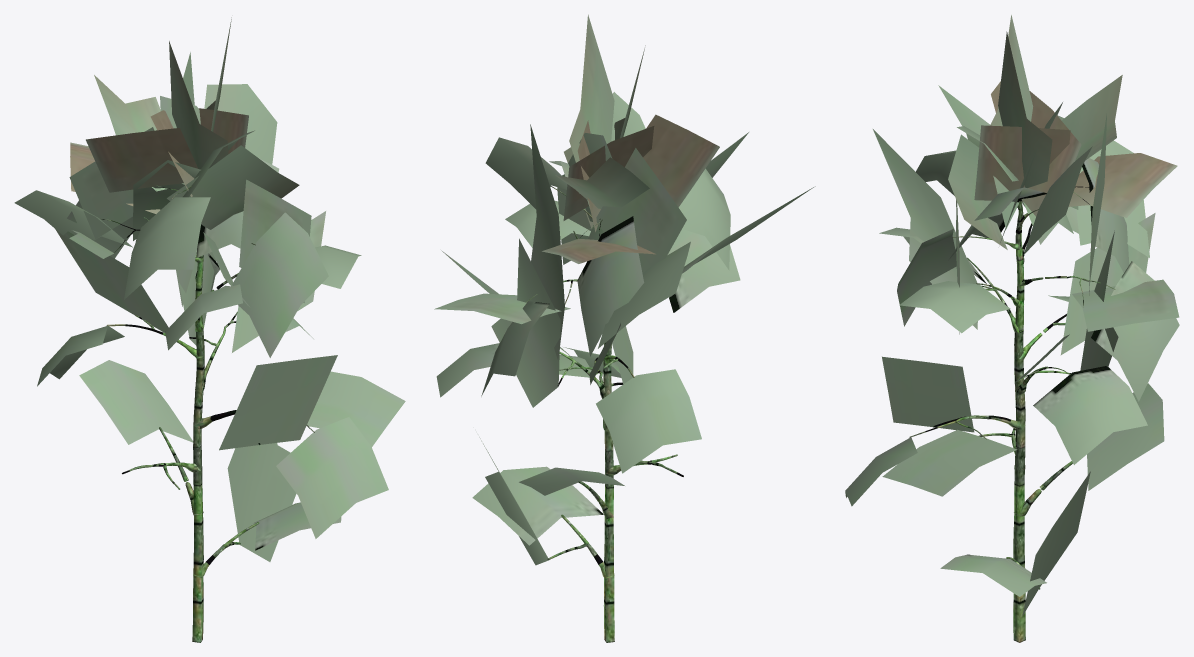
Rendered from Tree7.obj.
3 renders of one model, left to right at view 1: azimuth 30°, elevation 25°; view 2: azimuth 150°, elevation 25°; view 3: azimuth 270°, elevation 25°, orthographic.
Visible parts, largest first — view 1: Oak_Leav.386, Oak_Leav.378, Oak_Leav.402, Oak_Leav.406, Oak_Leav.401, Oak_Leav.382, Oak_Leav.388, Oak_Leav.397, Oak_Leav.392, Oak_Leav.404, Oak_Leav.387, Oak_Leav.407 (+16 smaller); view 2: Oak_Leav.390, Oak_Leav.379, Oak_Leav.393, Oak_Leav.407, Oak_Leav.374, Oak_Leav.406, Oak_Leav.396, Oak_Leav.399, Oak_Leav.385, Oak_Leav.381, Oak_Leav.388, Oak_Leav.387 (+13 smaller); view 3: Oak_Leav.376, Oak_Leav.402, Oak_Leav.392, Oak_Leav.373, Oak_Leav.400, Oak_Leav.405, Oak_Leav.411, Oak_Leav.408, Oak_Leav.382, Oak_Leav.399, Oak_Leav.383, Oak_Leav.404 (+17 smaller).
Boxes of the visible parts, <box> form: Oak_Leav.386: <box>276,417,388,538</box>; Oak_Leav.378: <box>232,212,328,357</box>; Oak_Leav.402: <box>219,355,337,450</box>; Oak_Leav.406: <box>86,128,198,192</box>; Oak_Leav.401: <box>227,443,296,561</box>; Oak_Leav.382: <box>79,360,193,444</box>; Oak_Leav.388: <box>124,197,210,299</box>; Oak_Leav.397: <box>167,145,299,229</box>; Oak_Leav.392: <box>307,371,405,447</box>; Oak_Leav.404: <box>55,229,168,332</box>; Oak_Leav.387: <box>204,84,277,164</box>; Oak_Leav.407: <box>69,127,154,239</box>; Oak_Leav.390: <box>596,369,701,473</box>; Oak_Leav.379: <box>577,216,644,356</box>; Oak_Leav.393: <box>491,238,560,407</box>; Oak_Leav.407: <box>596,148,686,273</box>; Oak_Leav.374: <box>472,466,603,545</box>; Oak_Leav.406: <box>643,114,719,207</box>; Oak_Leav.396: <box>530,124,564,360</box>; Oak_Leav.399: <box>569,14,614,207</box>; Oak_Leav.385: <box>598,241,690,348</box>; Oak_Leav.381: <box>667,229,740,312</box>; Oak_Leav.388: <box>678,168,730,270</box>; Oak_Leav.387: <box>485,137,579,209</box>; Oak_Leav.376: <box>1033,366,1147,464</box>; Oak_Leav.402: <box>882,356,974,432</box>; Oak_Leav.392: <box>882,429,1017,496</box>; Oak_Leav.373: <box>1091,261,1179,401</box>; Oak_Leav.400: <box>873,129,977,329</box>; Oak_Leav.405: <box>1068,153,1177,217</box>; Oak_Leav.411: <box>1072,279,1179,331</box>; Oak_Leav.408: <box>974,125,1070,201</box>; Oak_Leav.382: <box>1087,383,1164,490</box>; Oak_Leav.399: <box>998,31,1052,187</box>; Oak_Leav.383: <box>899,281,1010,333</box>; Oak_Leav.404: <box>1060,213,1155,355</box>.
Bounding box in the file's own units: 1.51 × 2.65 × 1.29.
Materials: 1 (1 with a texture image).
